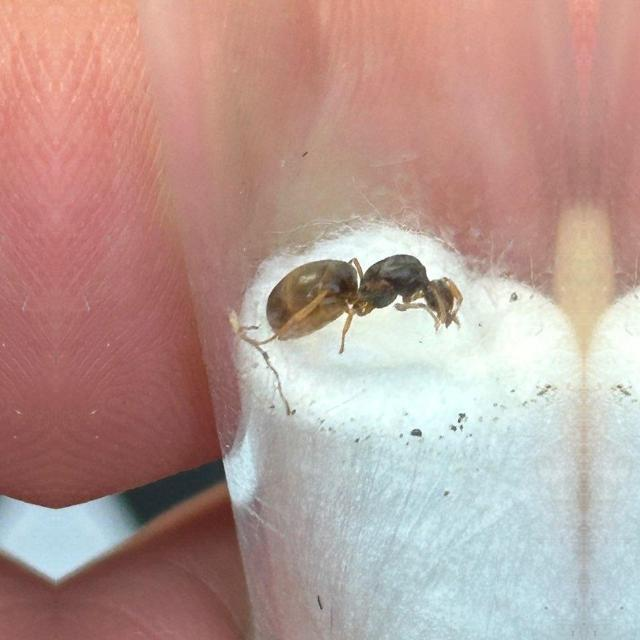Lasius: (236, 227, 490, 371)
